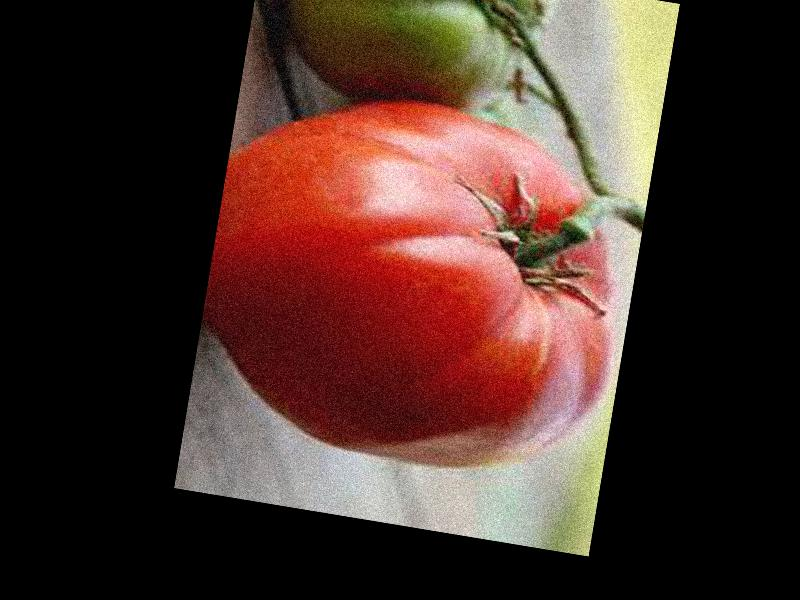Tomato: (183, 74, 649, 494)
